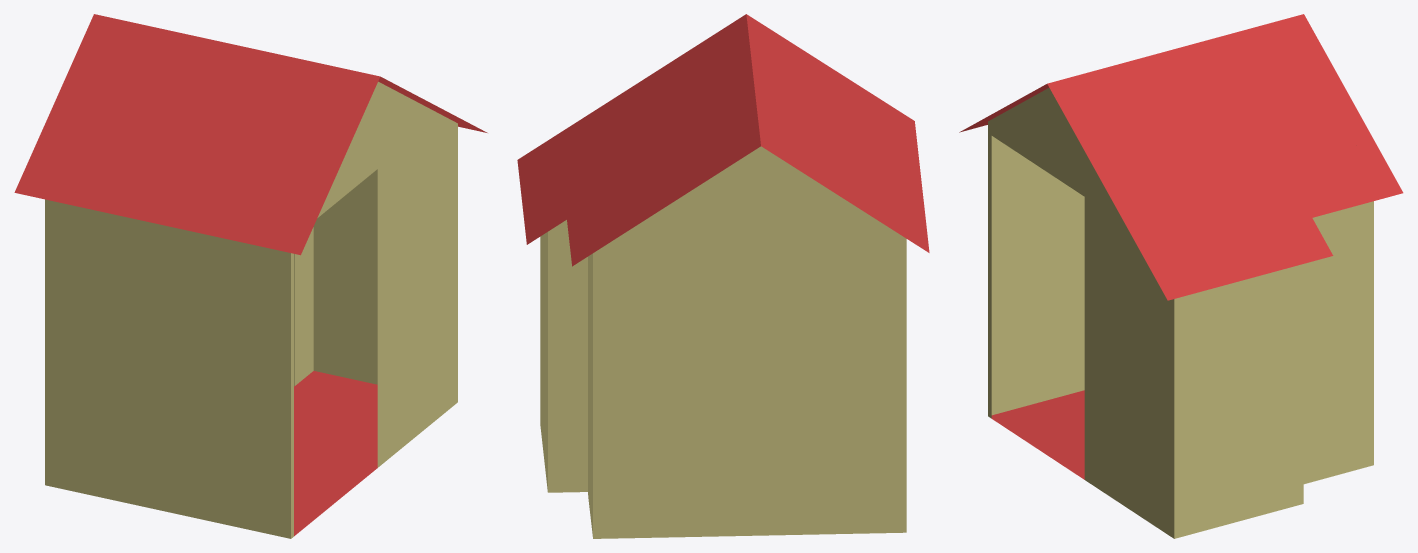
The picture shows the model from 3 angles, left to right: view 1: azimuth 30°, elevation 25°; view 2: azimuth 150°, elevation 25°; view 3: azimuth 270°, elevation 25°; orthographic projection. The views are drawn at different scales.
Size of the model in its own units: 11.44 by 10.37 by 9.98.
